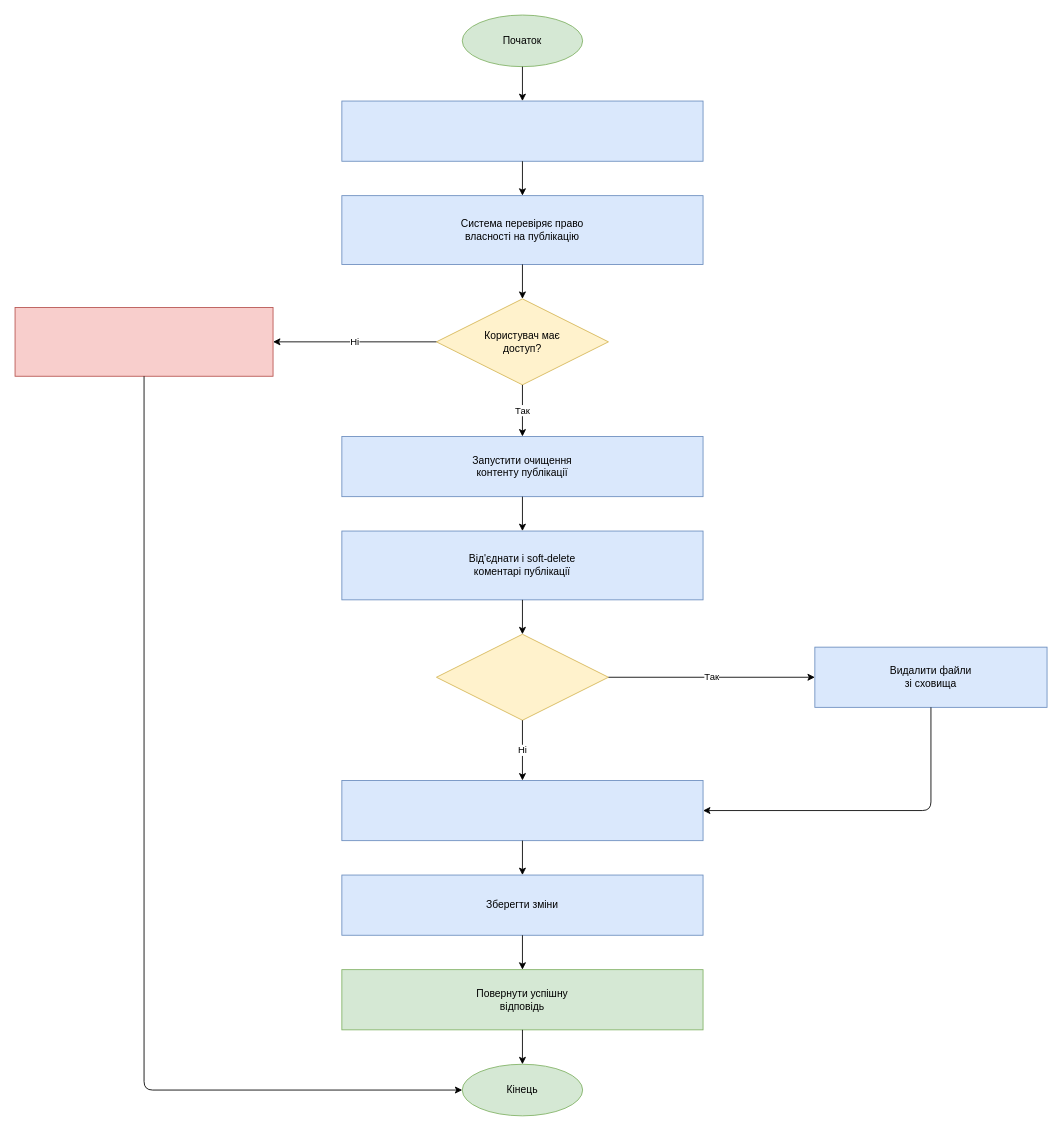
Image size: 1062x1131. Some labels were removed from this diagram. The centre of each missing label's shape, as x and y in pixels:
Видалити запис публікації з БД: pixel 522 810
Користувач ініціює видалення публікації: pixel 522 130
Повернути помилку доступу / not found: pixel 143 341
Є зображення для очищення?: pixel 522 676
